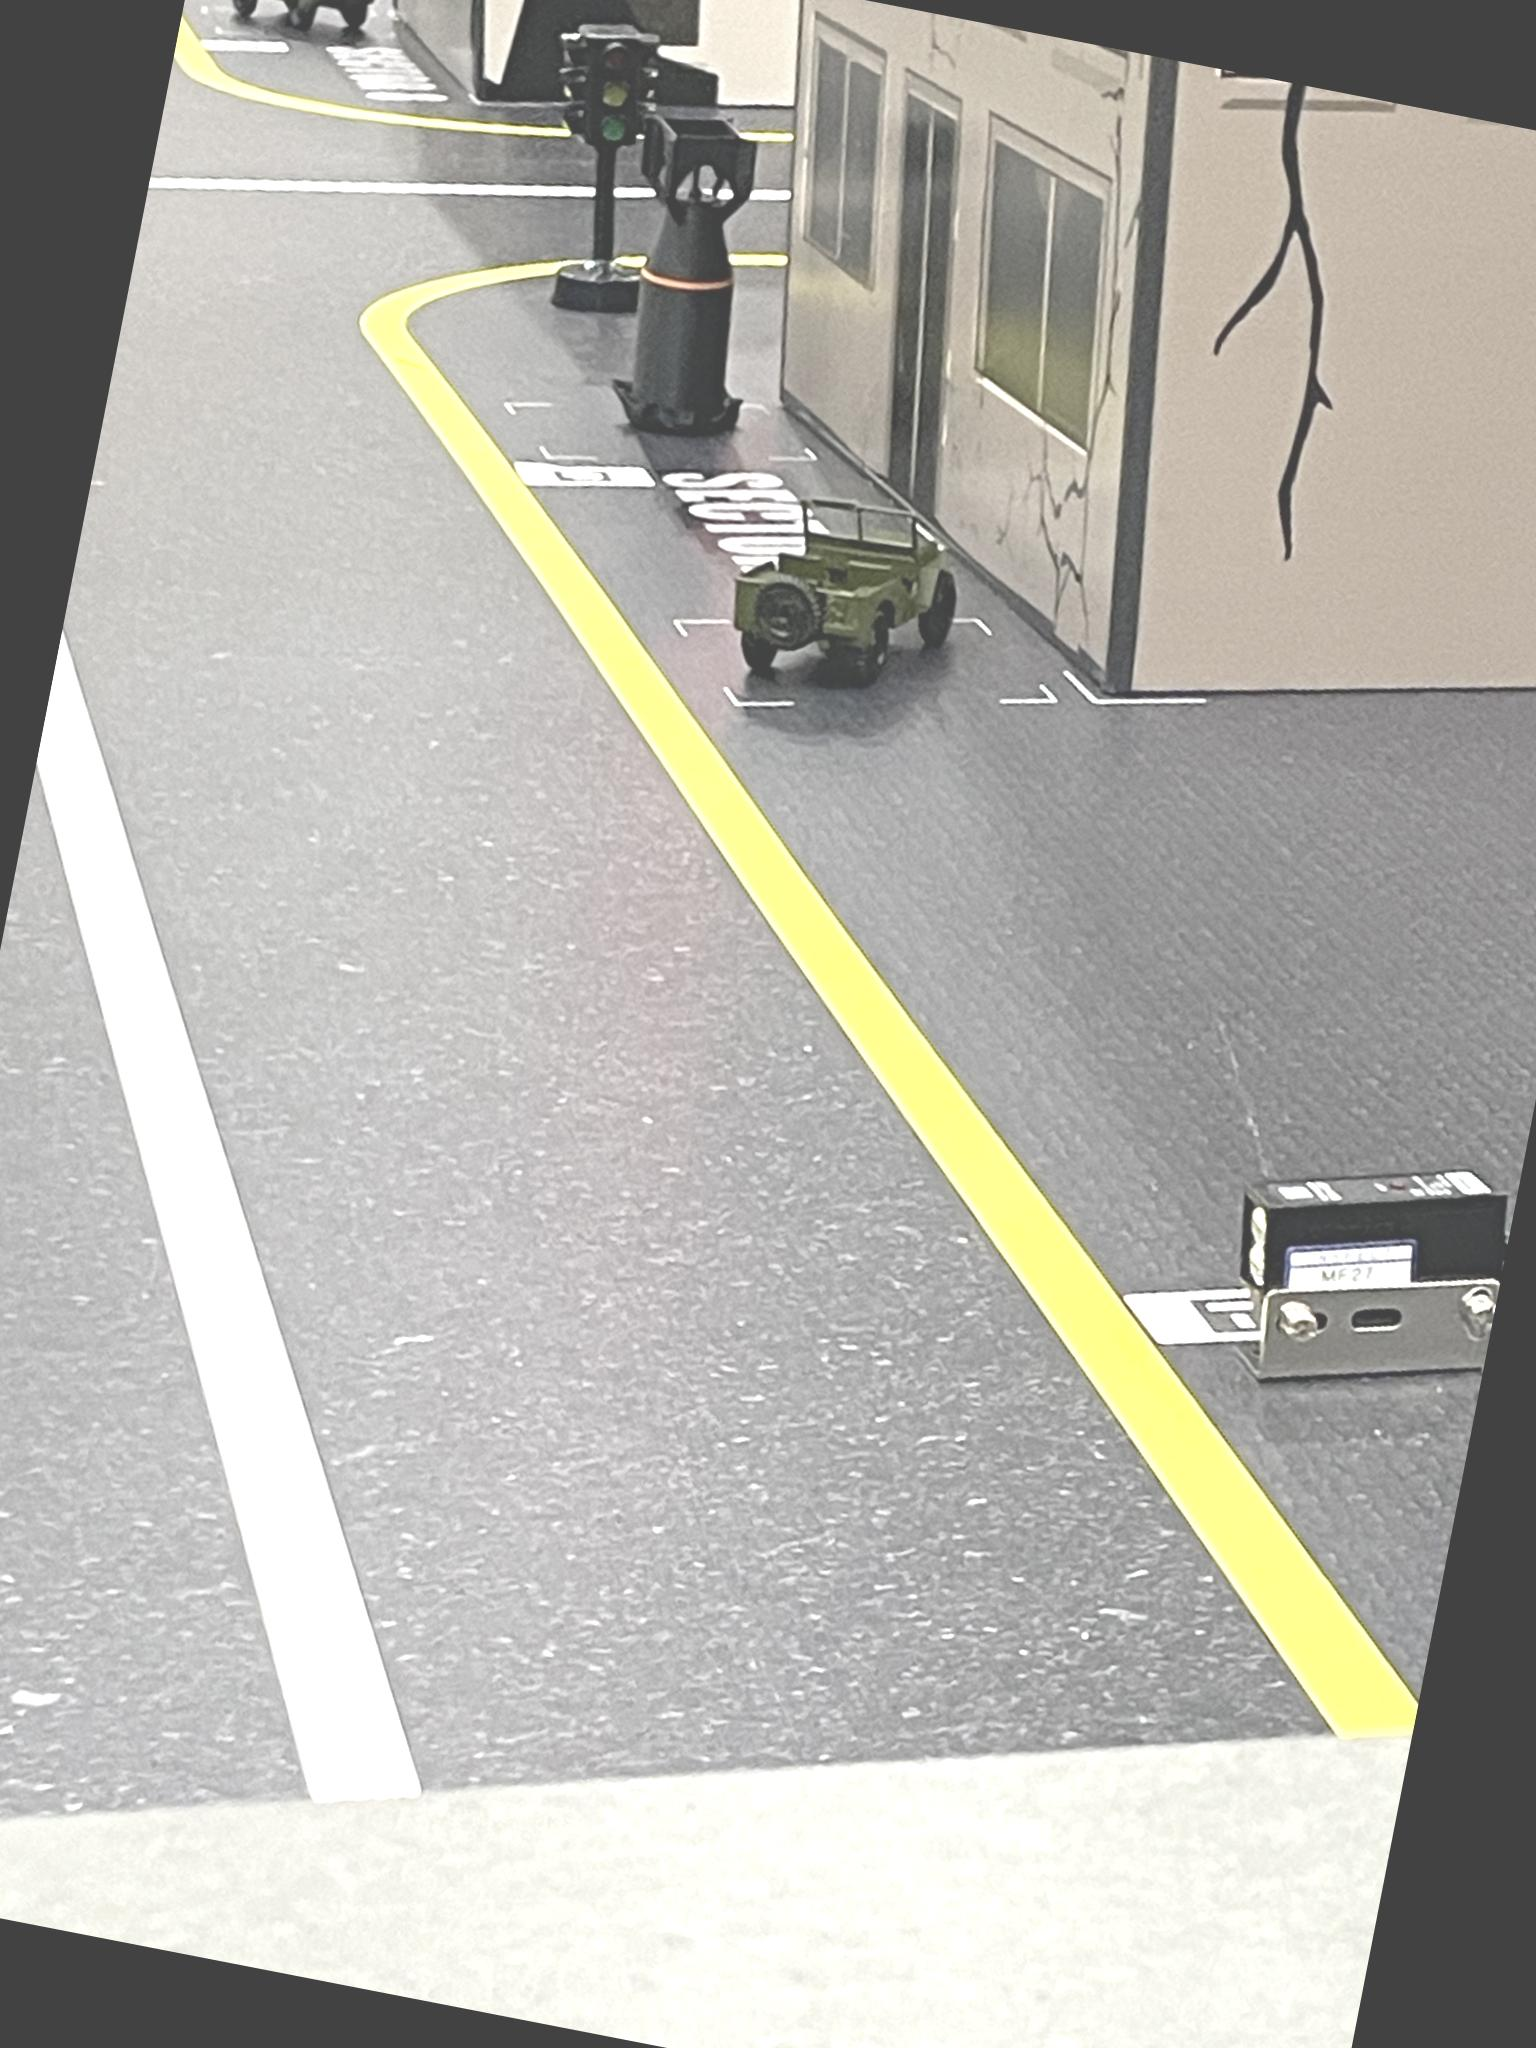Car: (716, 482, 975, 700), (231, 0, 387, 44)
Missile: (591, 105, 792, 445)
